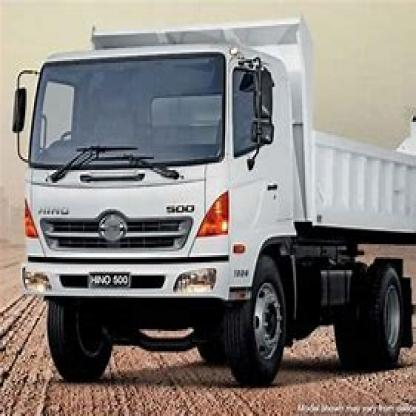dump_truck: (13, 13, 414, 390)
